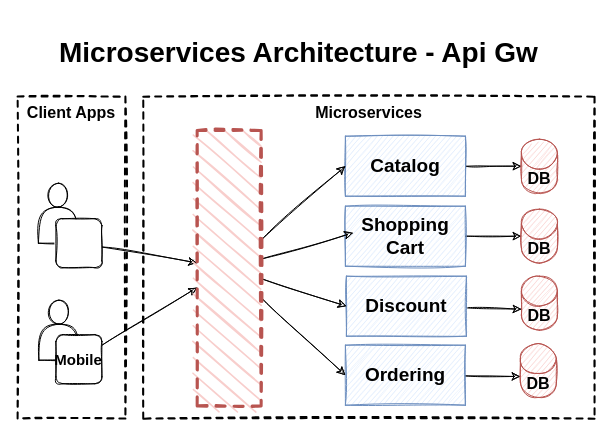
The diagram is 613 pixels wide and 437 high, and some of its shapes have lost their labels. The shapes that lost their labels are listed below. From the top down, each one's box as (x1, y1, x2, y2) in pixels, then its label:
(55, 218, 102, 268): Web
(195, 128, 262, 407): API Gateway
